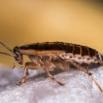cockroach: (12, 40, 103, 73)
